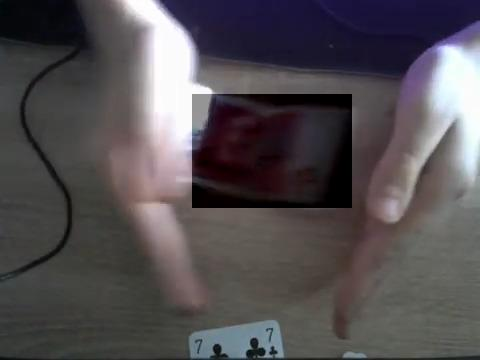5leva: (192, 94, 352, 208)
